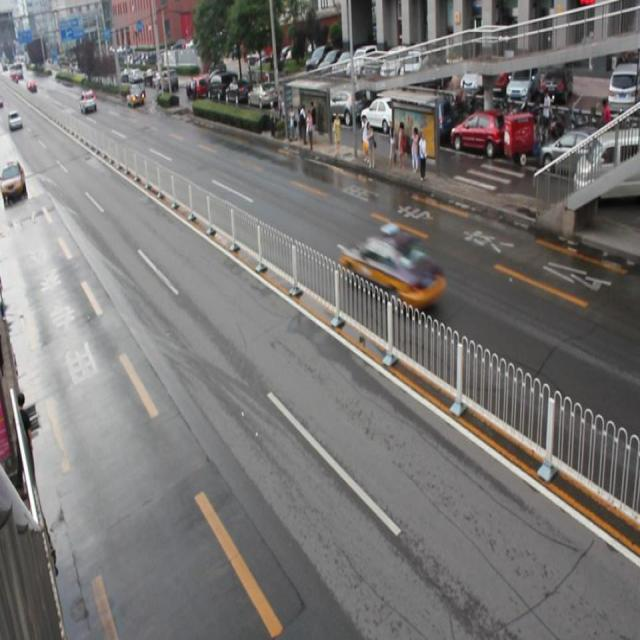car: (340, 223, 444, 312), (1, 160, 27, 198)
